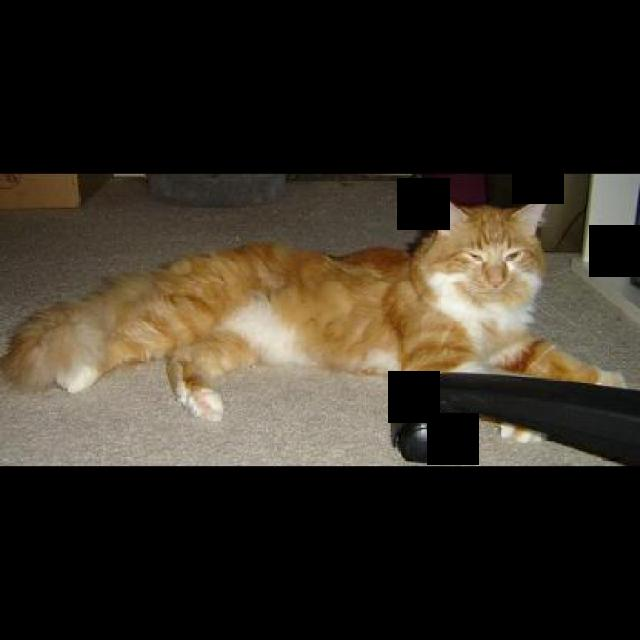unauthorized: (0, 192, 628, 442)
